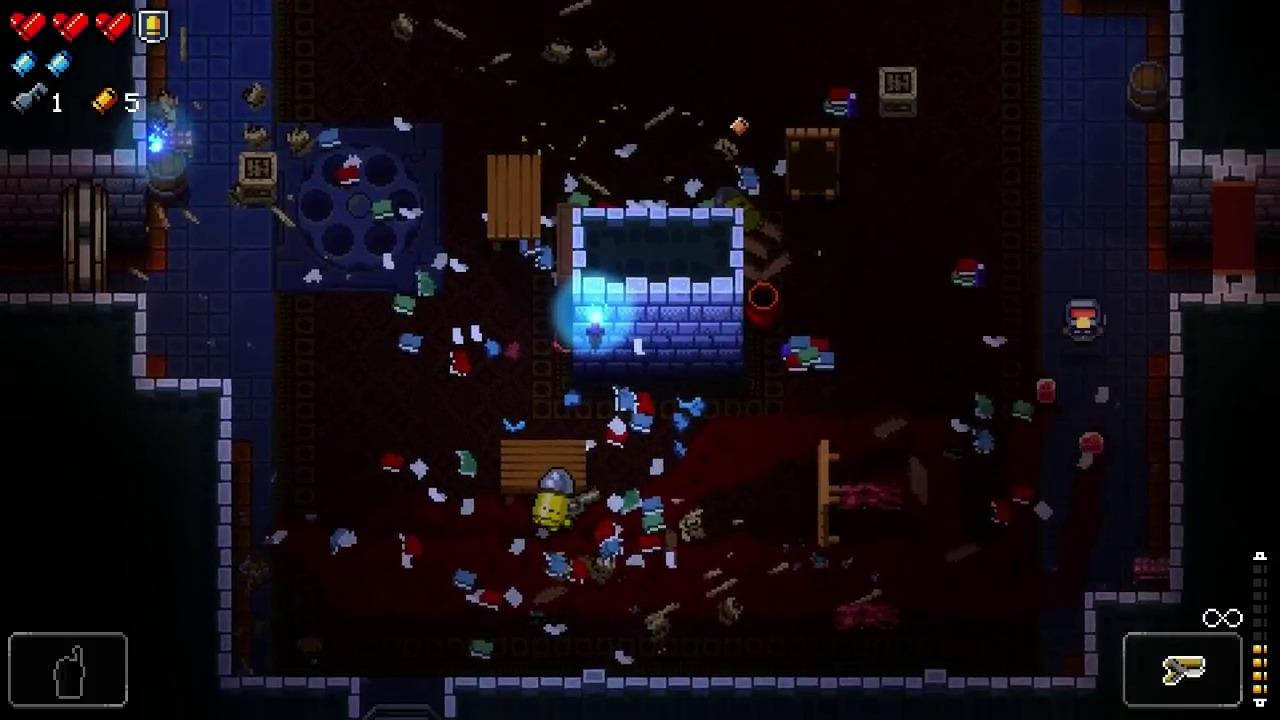blobulin_s: (1079, 430, 1105, 454), (1037, 379, 1057, 405)
bullet_kin: (532, 470, 576, 536)
locked_door: (62, 181, 107, 293)
player: (1064, 297, 1105, 349)
table: (501, 439, 587, 503), (486, 155, 541, 251), (785, 128, 840, 204), (817, 439, 843, 550)
teleporter: (272, 122, 444, 294)
wall: (572, 208, 745, 377)
